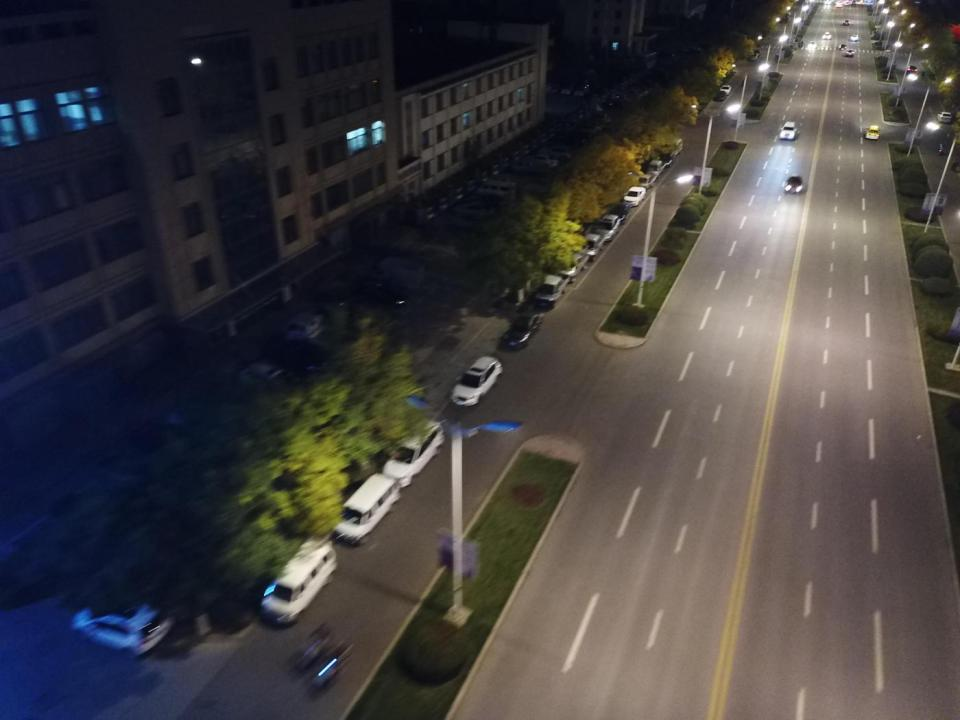car: (70, 593, 176, 654), (381, 417, 445, 487), (287, 291, 344, 339), (261, 338, 332, 376), (451, 356, 501, 407), (346, 277, 410, 310), (238, 360, 294, 396), (500, 310, 542, 351), (575, 228, 606, 259), (553, 252, 589, 278), (451, 200, 497, 218), (591, 214, 621, 241), (604, 199, 630, 221), (525, 154, 558, 170), (540, 145, 574, 160), (622, 186, 646, 206), (633, 171, 655, 188), (784, 175, 802, 195), (779, 120, 797, 138), (579, 119, 603, 132), (656, 150, 674, 166), (565, 132, 588, 144), (573, 124, 595, 135), (864, 125, 880, 140), (587, 113, 610, 123), (573, 82, 589, 96), (601, 99, 622, 109), (624, 86, 644, 96), (631, 83, 651, 93), (560, 80, 573, 95), (936, 111, 952, 123), (612, 92, 631, 101), (546, 80, 559, 93), (713, 91, 726, 102), (719, 84, 731, 94), (686, 44, 699, 52), (906, 64, 917, 72), (662, 52, 675, 58), (749, 49, 760, 56), (846, 49, 855, 57), (807, 42, 816, 49), (822, 32, 830, 39), (781, 16, 790, 22), (836, 1, 843, 8), (840, 44, 847, 51), (850, 34, 858, 40), (747, 56, 756, 61), (782, 12, 789, 18), (843, 20, 849, 26), (824, 0, 832, 4), (850, 0, 856, 5), (844, 0, 850, 5)
truck: (534, 274, 569, 307), (510, 160, 546, 176), (644, 158, 666, 177)
van: (260, 536, 334, 626), (332, 472, 400, 545), (477, 180, 516, 198), (656, 134, 682, 154)
